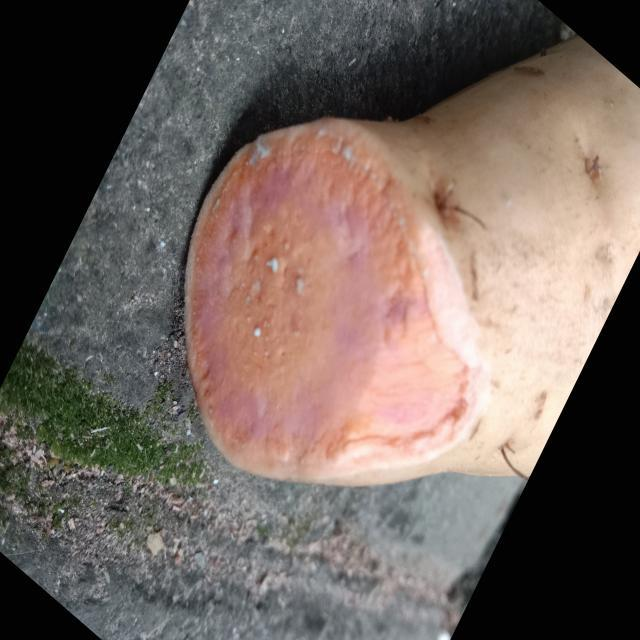Healthy Sweet Potato: (186, 118, 490, 483)
